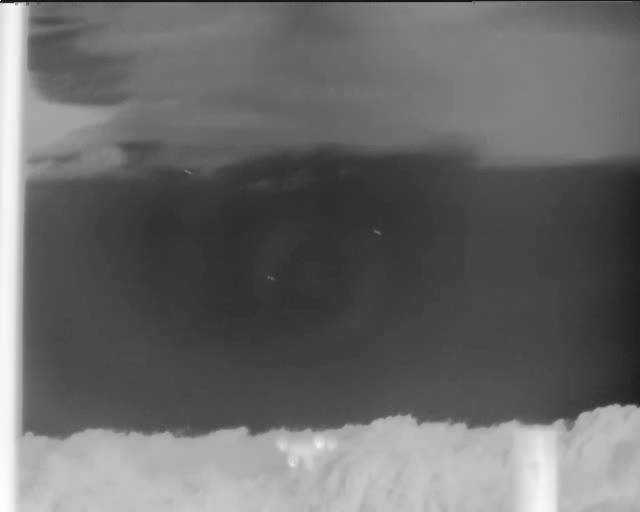uav: (276, 433, 341, 472)
